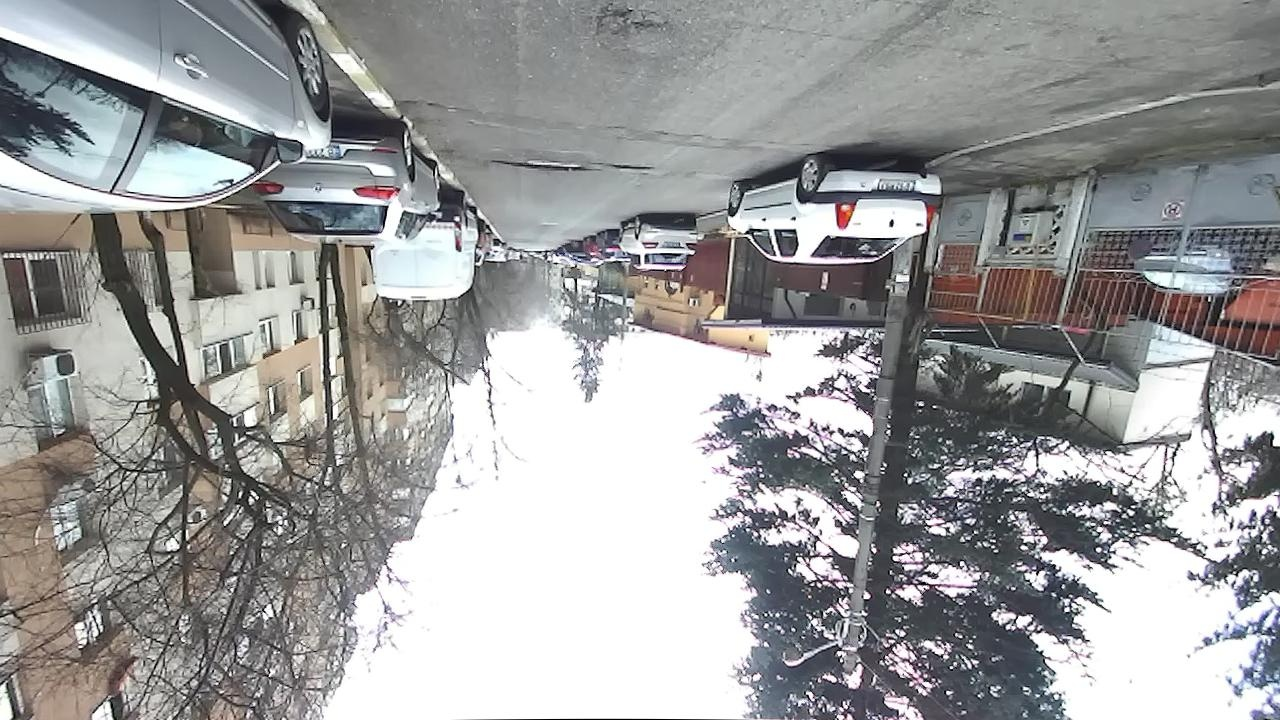pothole: (597, 3, 668, 35), (490, 159, 586, 173), (605, 160, 654, 170)
